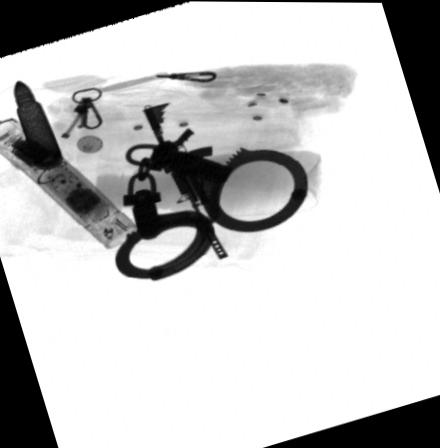Baton: (0, 117, 136, 249)
Bullet: (14, 81, 63, 172)
Gun: (144, 100, 228, 260)
HandCuffs: (114, 140, 308, 281)
